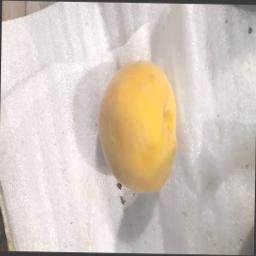Peach Ripe: (82, 40, 190, 198)
